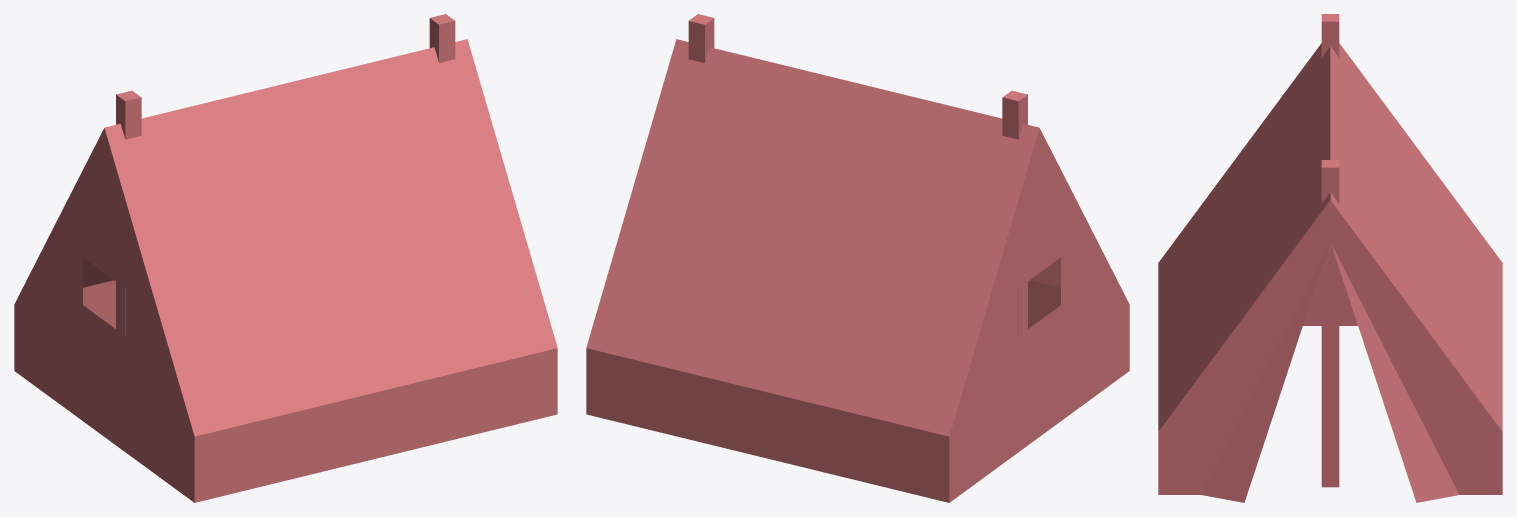
The model's file is tent_smallOpen.fbx.
3 renders of one model, left to right at view 1: azimuth 30°, elevation 25°; view 2: azimuth 150°, elevation 25°; view 3: azimuth 270°, elevation 25°, orthographic. The views are drawn at different scales.
Visible parts, largest first — view 1: tent_smallOpen; view 2: tent_smallOpen; view 3: tent_smallOpen.
Boxes of the visible parts, x1,y1,x2,y2 form: tent_smallOpen: [14, 14, 557, 502]; tent_smallOpen: [586, 14, 1129, 502]; tent_smallOpen: [1158, 14, 1502, 502].
Size of the model in its own units: 200 by 168 by 164.
